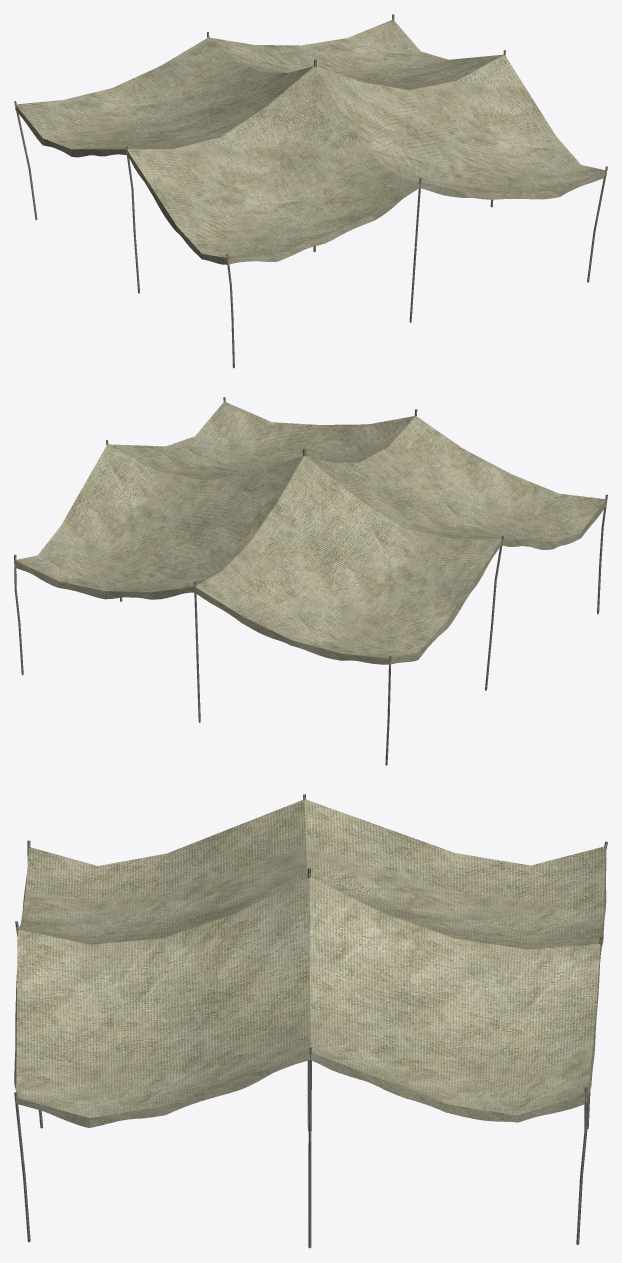
The model's file is poi_corl_tent_large_l1.fbx.
3 views of the same model, one above another, from view 1: azimuth 30°, elevation 25°; view 2: azimuth 150°, elevation 25°; view 3: azimuth 270°, elevation 25° (orthographic). The views are drawn at different scales.
Parts seen in each view (by area): view 1: mesh_node; view 2: mesh_node; view 3: mesh_node.
Part boxes in pixels (bbox=[...]): mesh_node: bbox=[14, 14, 607, 368]; mesh_node: bbox=[14, 397, 607, 765]; mesh_node: bbox=[14, 794, 607, 1248].
Bounding box in the file's own units: 10.88 × 5.21 × 10.65.
